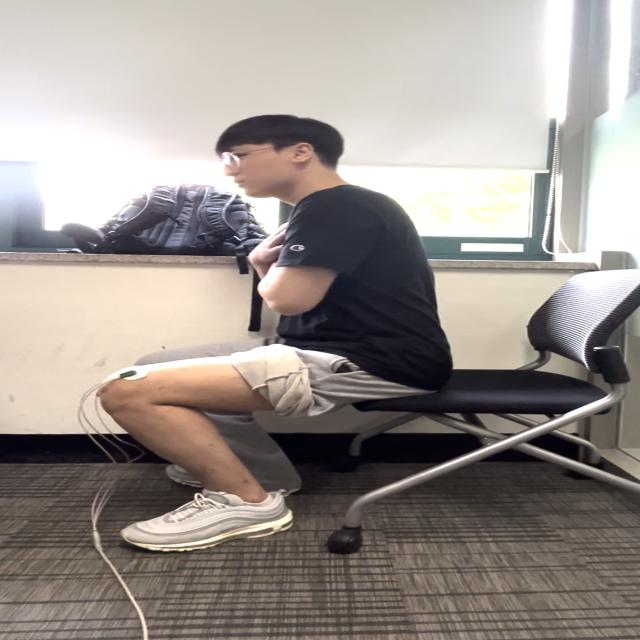squat: (84, 114, 498, 570), (50, 355, 212, 436)
